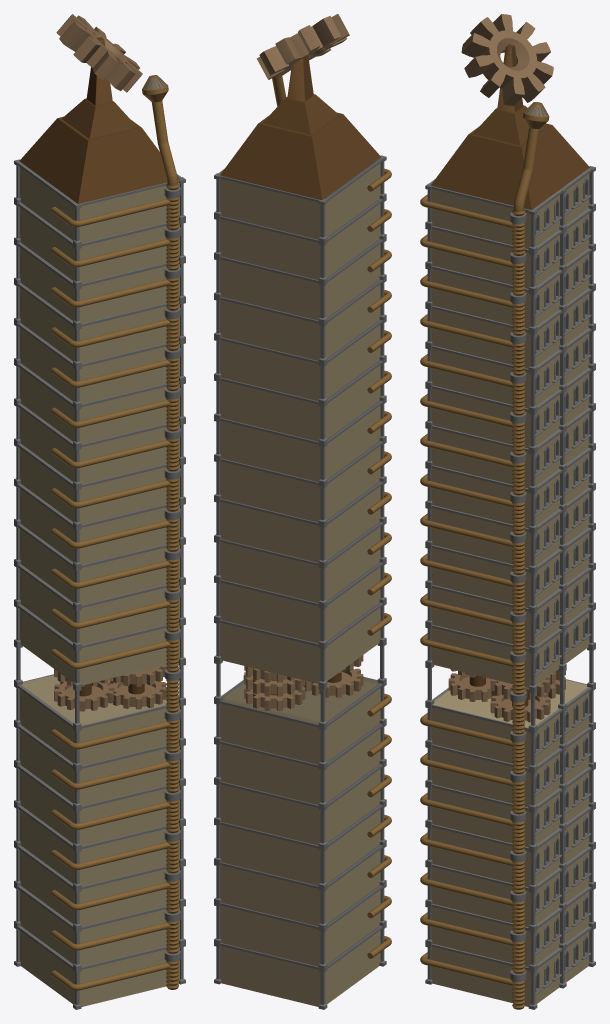
File: House1.fbx
The picture shows the model from 3 angles, left to right: view 1: azimuth 30°, elevation 25°; view 2: azimuth 150°, elevation 25°; view 3: azimuth 330°, elevation 25°; orthographic projection.
Parts seen in each view (by area): view 1: Gear.007; view 2: Gear.007; view 3: Gear.007.
Boxes of the visible parts, box(x1,y1,x2,y2) form: Gear.007: box(14, 14, 185, 1009); Gear.007: box(214, 14, 391, 1009); Gear.007: box(420, 14, 595, 1009).
Size of the model in its own units: 226 by 1795 by 230.
